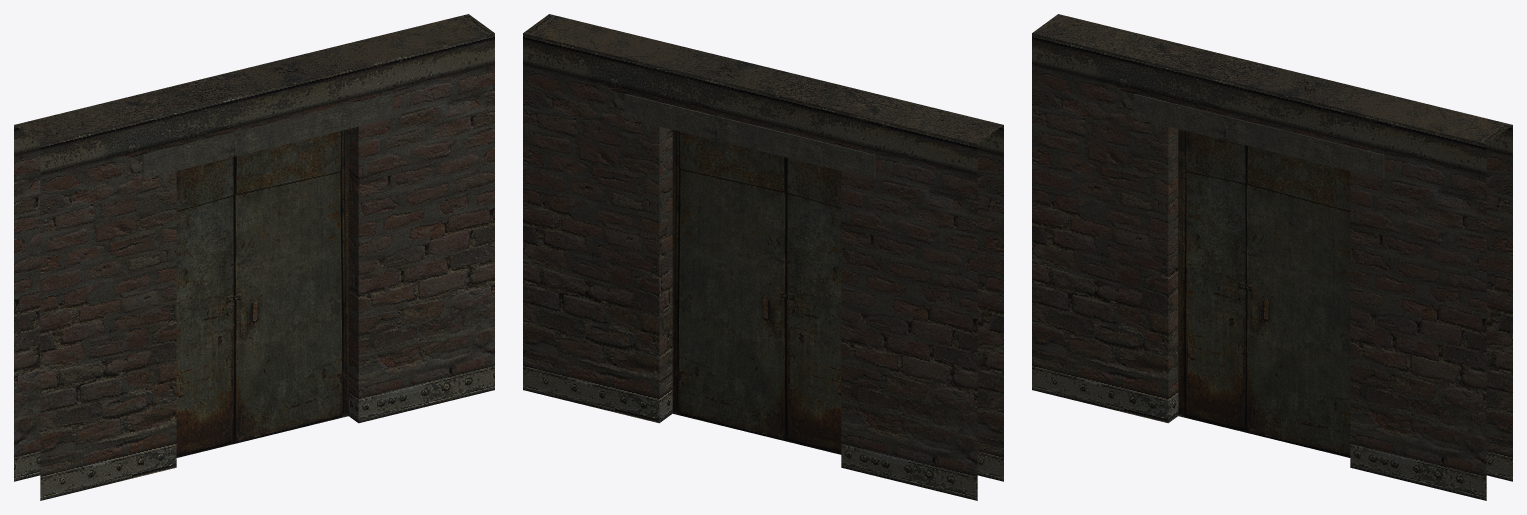
Rendered from doorway_hr_1_wide.glb.
3 renders of one model, left to right at view 1: azimuth 30°, elevation 25°; view 2: azimuth 150°, elevation 25°; view 3: azimuth 330°, elevation 25°, orthographic.
Visible parts, largest first — view 1: doorway_hr_1_wide, door_hm_1_piece_2, door_hm_1_piece_1; view 2: doorway_hr_1_wide, door_hm_1_piece_2, door_hm_1_piece_1; view 3: doorway_hr_1_wide, door_hm_1_piece_2, door_hm_1_piece_1.
Part boxes in pixels (x1=…): doorway_hr_1_wide: x1=14, y1=14, x2=494, y2=500; door_hm_1_piece_2: x1=235, y1=129, x2=348, y2=443; door_hm_1_piece_1: x1=176, y1=157, x2=234, y2=457; doorway_hr_1_wide: x1=523, y1=14, x2=1003, y2=500; door_hm_1_piece_2: x1=672, y1=130, x2=786, y2=441; door_hm_1_piece_1: x1=786, y1=157, x2=841, y2=454; doorway_hr_1_wide: x1=1032, y1=14, x2=1512, y2=500; door_hm_1_piece_2: x1=1246, y1=145, x2=1350, y2=457; door_hm_1_piece_1: x1=1178, y1=129, x2=1246, y2=432.
Size of the model in its own units: 4 by 3 by 0.42.
4 materials, 4 textured.
